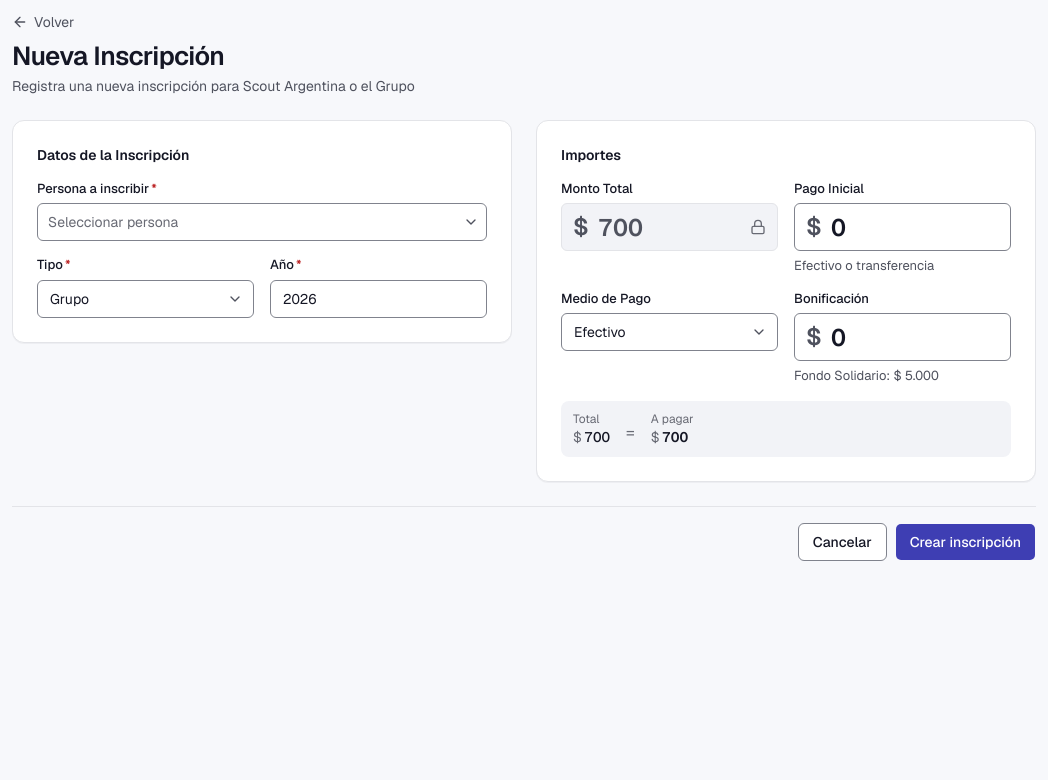
Test: <InscripcionCreateView> › monto total desde la config local y Grupo por ?tipo
The image size is (1048, 780).
Expected: the field labelled "Monto Total" holds "700", [561,203,778,251]
Expected: the element "Datos de la Inscripción" is shown, [37,145,487,318]
Click the button "Crear inscripción" at (965, 542), box [895,523,1036,561]
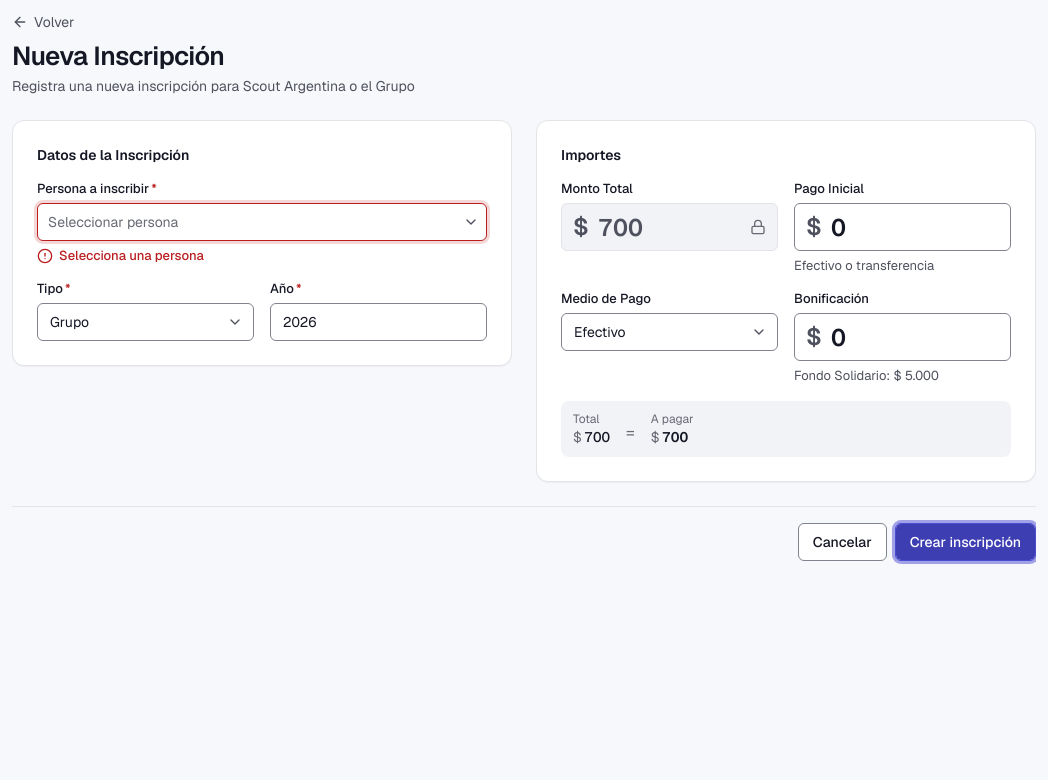
Expected: the text "Selecciona una persona" is shown, [59,247,204,265]
